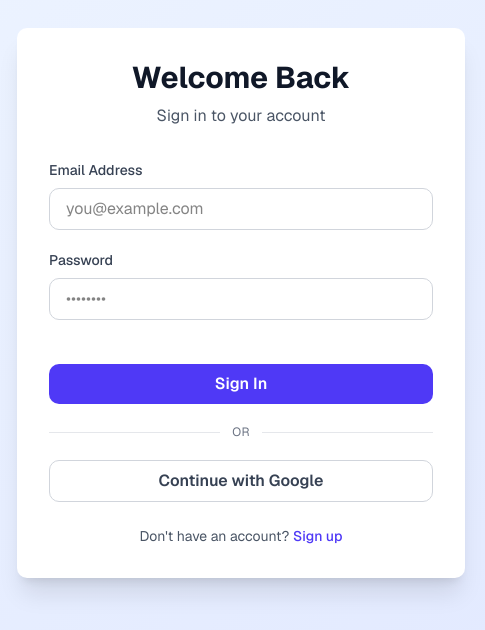
Test: Login Component › Form Validation › shows email error for invalid email format
This screenshot has width=485, height=630.
Type "invalid-email" into the field with test id "email-input".
click(241, 209); type("invalid-email")  # box [49,188,433,230]
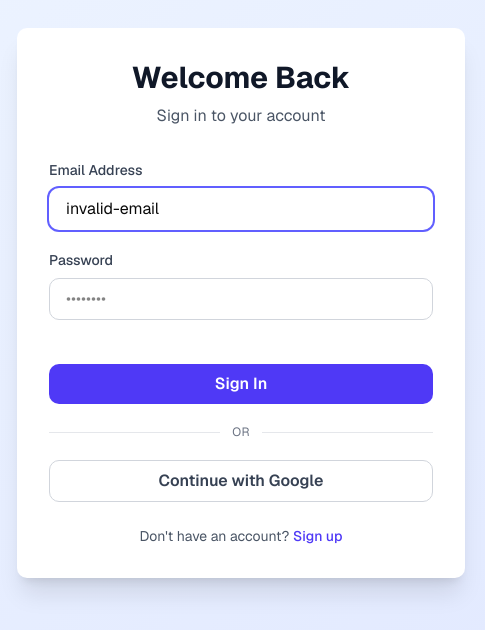
Type "password123" into the password field with test id "password-input".
click(241, 299); type("password123")  # box [49,278,433,320]
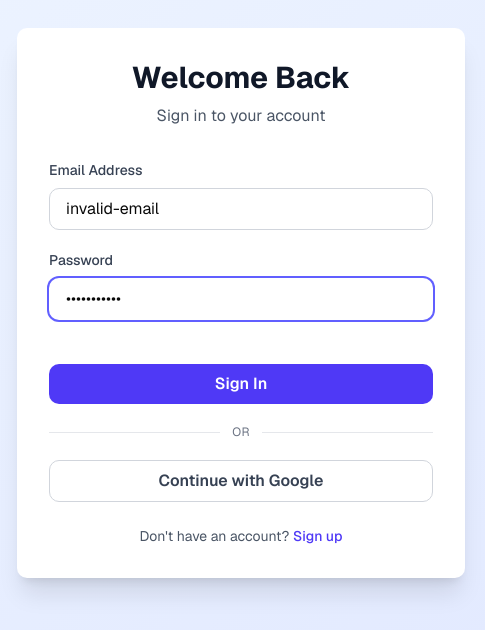
Click the button with test id "submit-button".
click(241, 384)  # box [49,364,433,404]
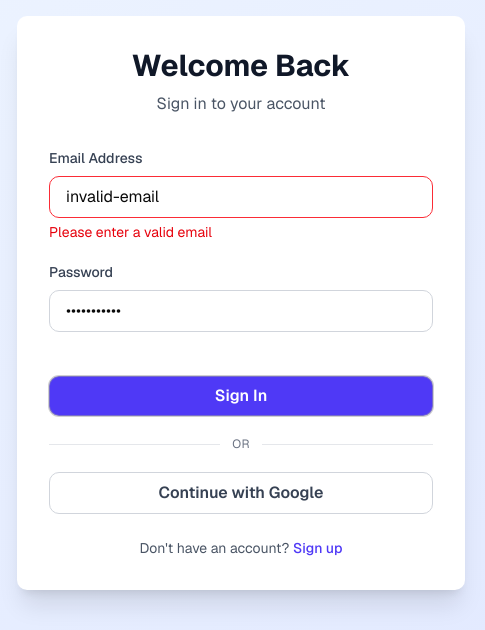
Expected: the text with test id "email-error" reads "Please enter a valid email", [49,223,212,241]
